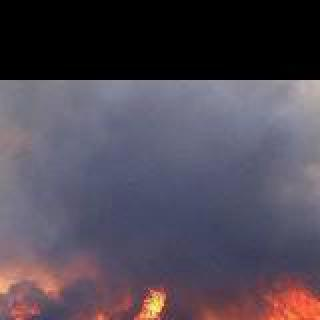fire: (14, 276, 320, 320)
